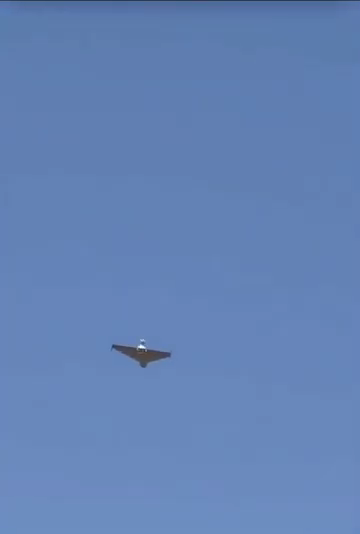shahed: (109, 337, 172, 368)
